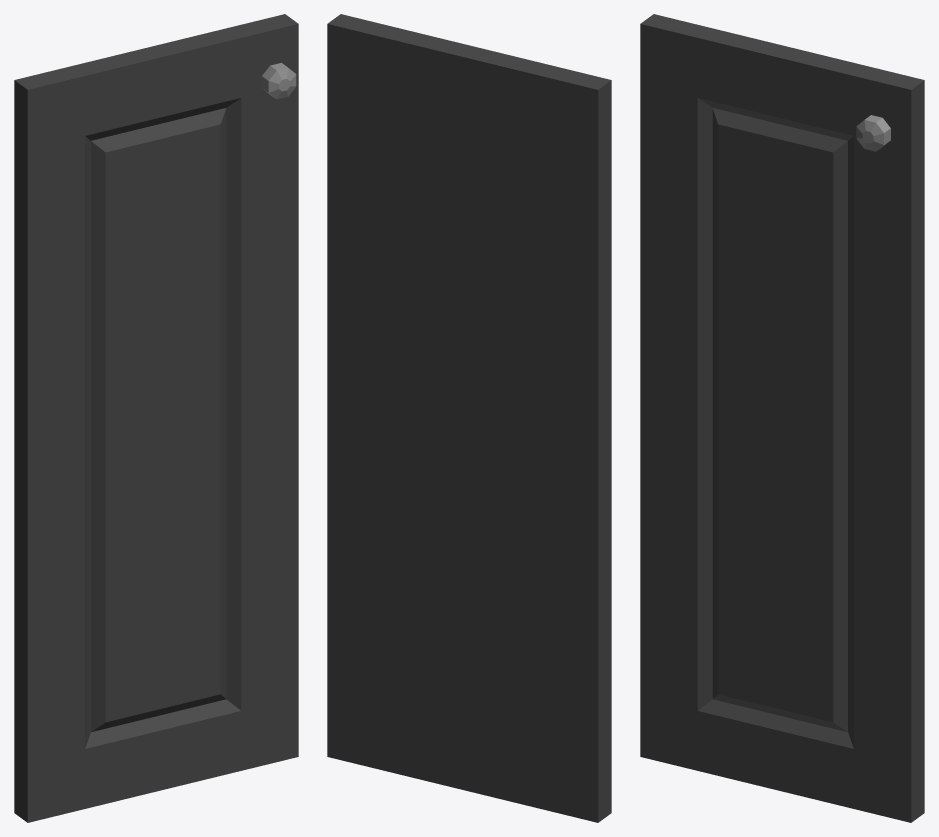
The model's file is Door3_C3_04.fbx.
The picture shows the model from 3 angles, left to right: view 1: azimuth 30°, elevation 25°; view 2: azimuth 150°, elevation 25°; view 3: azimuth 330°, elevation 25°; orthographic projection.
Visible parts, largest first — view 1: Door3_C3_04; view 2: Door3_C3_04; view 3: Door3_C3_04.
Part boxes in pixels (left/top/right/bottom): Door3_C3_04: left=14, top=14, right=298, bottom=822; Door3_C3_04: left=327, top=14, right=611, bottom=822; Door3_C3_04: left=640, top=14, right=924, bottom=822.
Bounding box in the file's own units: 29 × 75 × 5.19.
